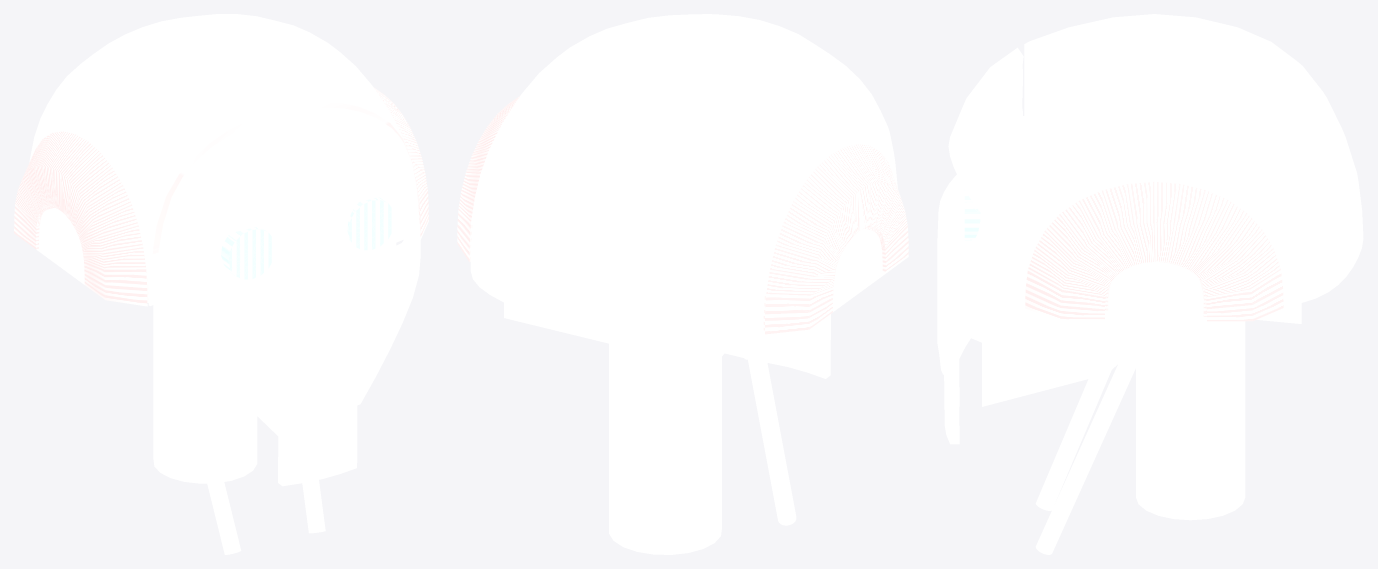
The model's file is Head_04.gltf.
The picture shows the model from 3 angles, left to right: view 1: azimuth 30°, elevation 25°; view 2: azimuth 150°, elevation 25°; view 3: azimuth 270°, elevation 25°; orthographic projection. The views are drawn at different scales.
Visible parts, largest first — view 1: Head_v4, cylinder4, cylinder3; view 2: Head_v4; view 3: Head_v4, cylinder3.
Part boxes in pixels (x1=…): Head_v4: x1=14, y1=14, x2=428, y2=554; cylinder4: x1=221, y1=226, x2=275, y2=279; cylinder3: x1=347, y1=197, x2=395, y2=250; Head_v4: x1=457, y1=14, x2=908, y2=554; Head_v4: x1=937, y1=14, x2=1363, y2=554; cylinder3: x1=964, y1=190, x2=980, y2=240.
Size of the model in its own units: 20.22 by 27.97 by 21.96.
5 materials, 3 textured.
